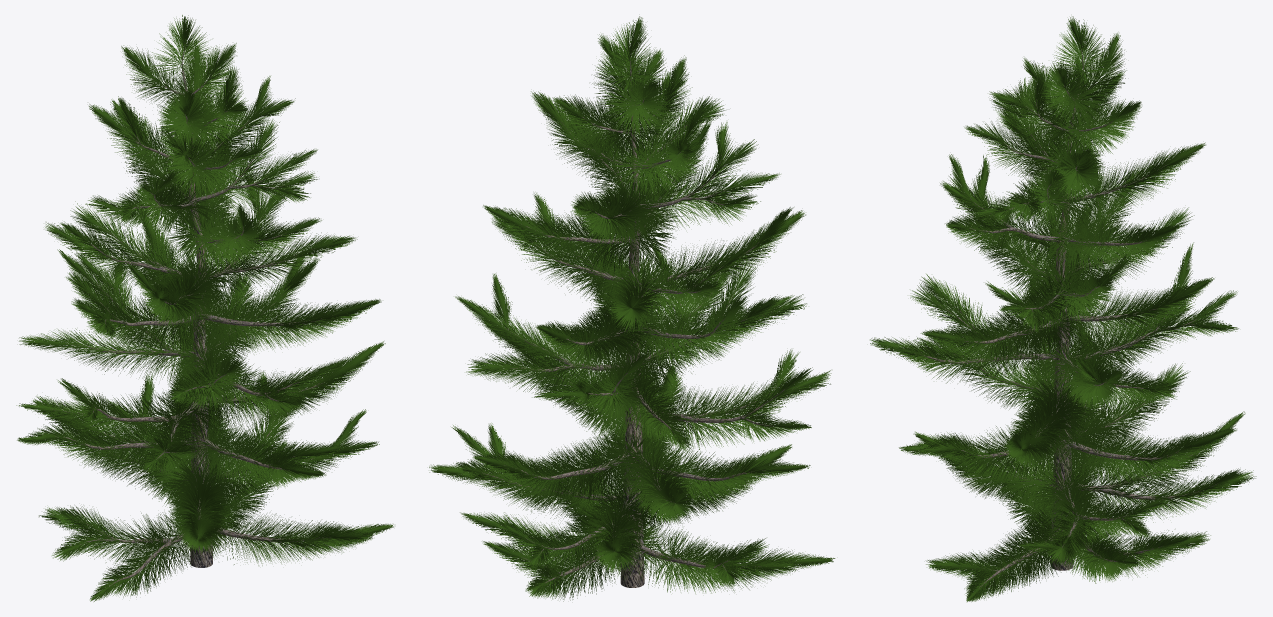
File: Pine tree.fbx
3 views of the same model, side by side, from view 1: azimuth 30°, elevation 25°; view 2: azimuth 150°, elevation 25°; view 3: azimuth 270°, elevation 25° (orthographic). The views are drawn at different scales.
Parts seen in each view (by area): view 1: leaves, tree; view 2: leaves, tree; view 3: leaves, tree.
Boxes of the visible parts, x1,y1,x2,y2 form: leaves: (16,15,393,601); tree: (51,46,330,586); leaves: (429,16,835,601); tree: (483,60,795,587); leaves: (870,16,1256,601); tree: (921,49,1217,587).
Bounding box in the file's own units: 4391 × 6586 × 4264.
2 materials, 1 textured.
